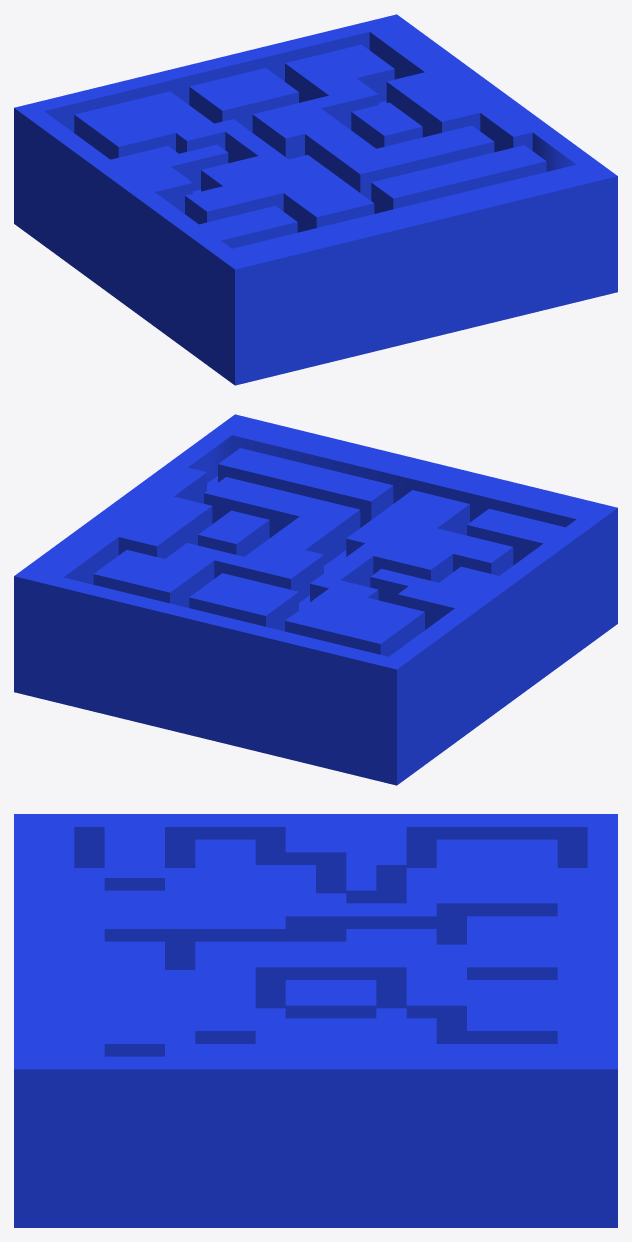
File: maze3.glb
3 views of the same model, one above another, from view 1: azimuth 30°, elevation 25°; view 2: azimuth 150°, elevation 25°; view 3: azimuth 270°, elevation 25° (orthographic). The views are drawn at different scales.
Visible parts, largest first — view 1: pCube1; view 2: pCube1; view 3: pCube1.
Boxes of the visible parts, left/top/right/bottom form: pCube1: left=14, top=14, right=617, bottom=385; pCube1: left=14, top=414, right=617, bottom=785; pCube1: left=14, top=814, right=617, bottom=1227.
Bounding box in the file's own units: 10 × 2.9 × 10.
1 material, 1 textured.
